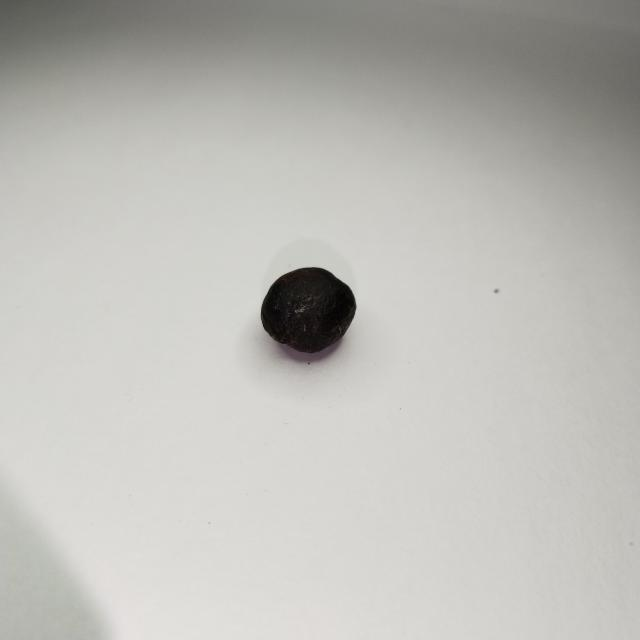Danado: (258, 267, 358, 360)
